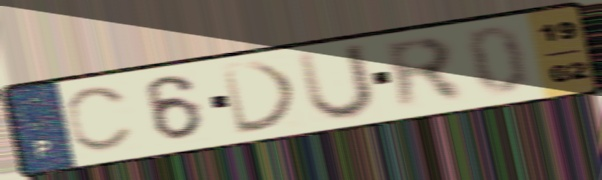0: (464, 23, 532, 99)
6: (142, 74, 209, 145)
C: (62, 82, 137, 155)
D: (217, 58, 303, 138)
R: (379, 34, 472, 114)
U: (292, 40, 380, 124)
